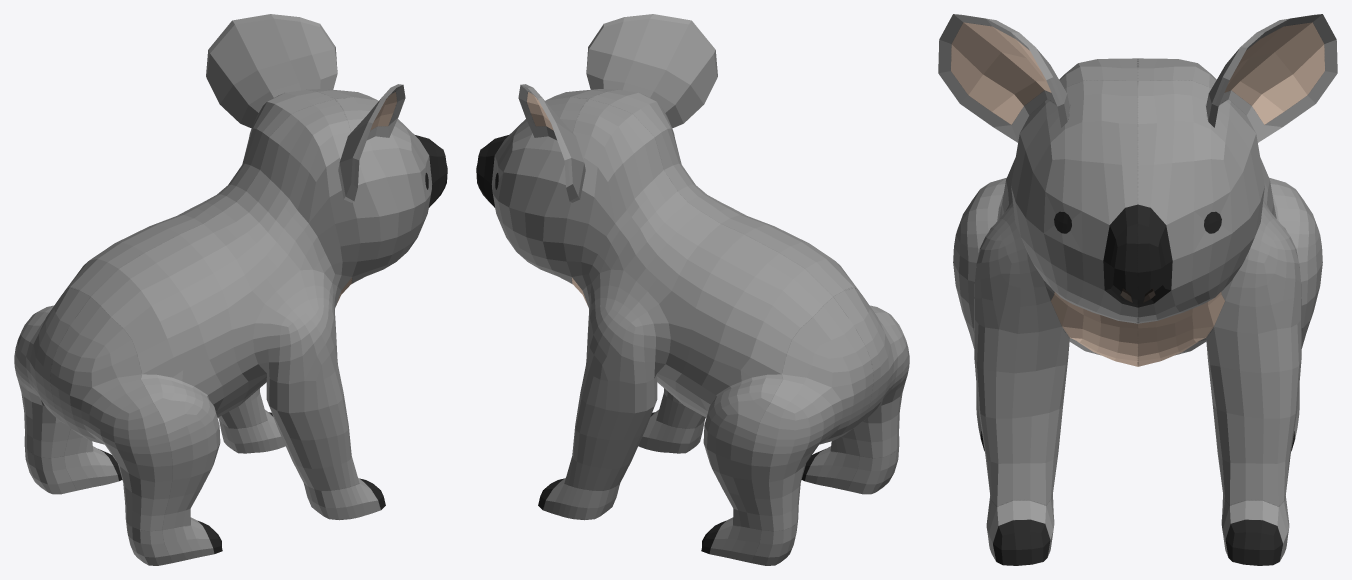
File: KoalaLow.fbx
3 views of the same model, side by side, from view 1: azimuth 30°, elevation 25°; view 2: azimuth 150°, elevation 25°; view 3: azimuth 270°, elevation 25° (orthographic). The views are drawn at different scales.
Visible parts, largest first — view 1: Cube.001; view 2: Cube.001; view 3: Cube.001.
Boxes of the visible parts, left/top/right/bottom form: Cube.001: left=14, top=14, right=447, bottom=565; Cube.001: left=476, top=14, right=909, bottom=565; Cube.001: left=938, top=14, right=1337, bottom=565.
Bounding box in the file's own units: 679 × 686 × 454.
1 material, 1 textured.
